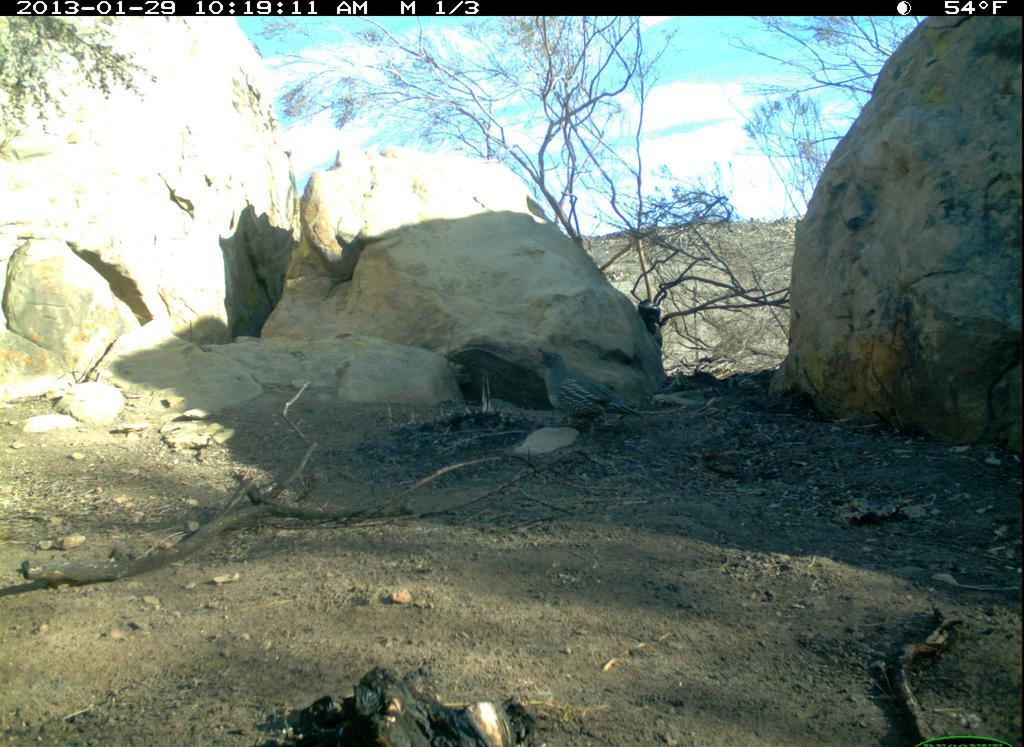bird: (538, 345, 648, 441)
